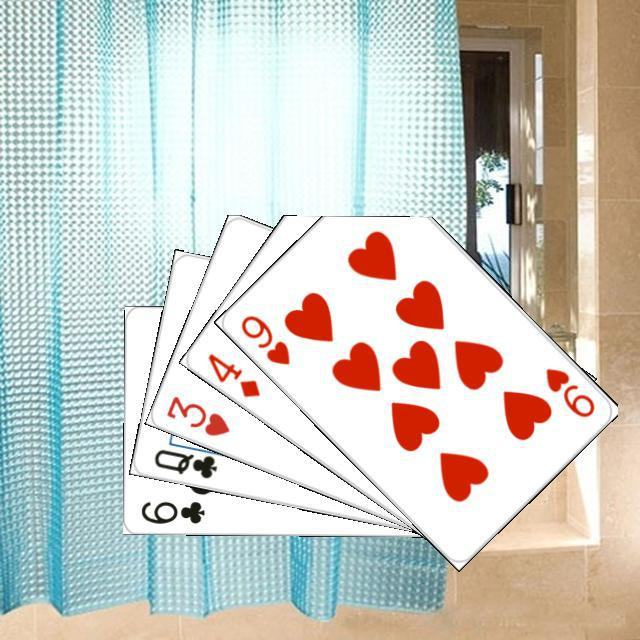3h: (161, 391, 232, 438)
4d: (203, 348, 262, 400)
6c: (136, 496, 207, 526)
9h: (236, 310, 292, 367), (540, 363, 597, 419)
Qc: (149, 434, 228, 480)
